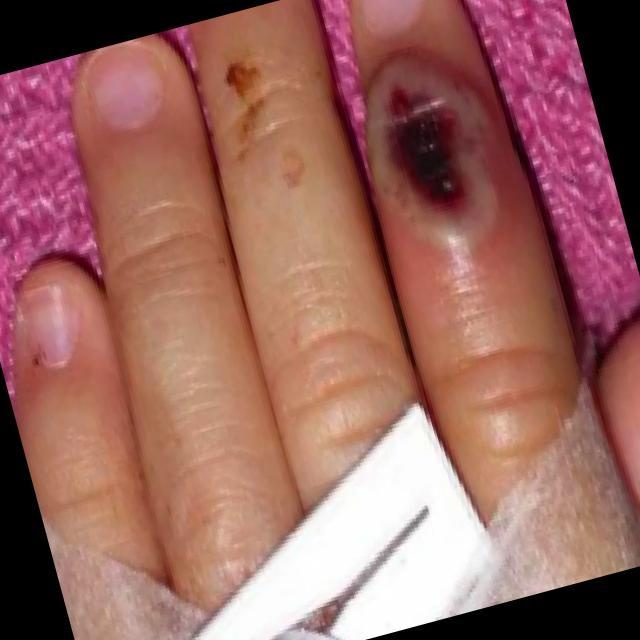Eczema: (374, 60, 514, 253)
